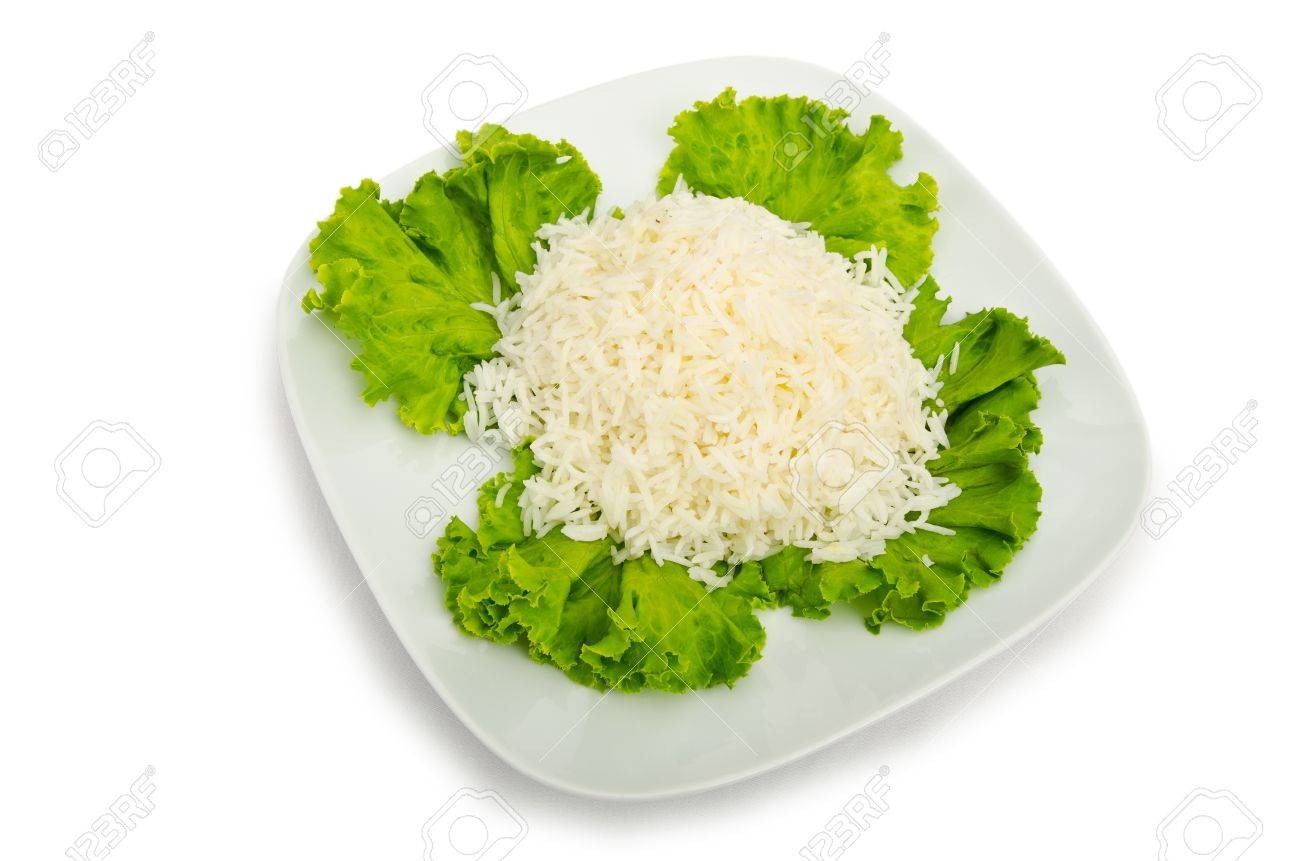chopped lettuce: (491, 547, 721, 690), (358, 195, 512, 386), (923, 314, 1037, 552), (691, 94, 915, 207)
plain rice: (516, 219, 899, 548)
